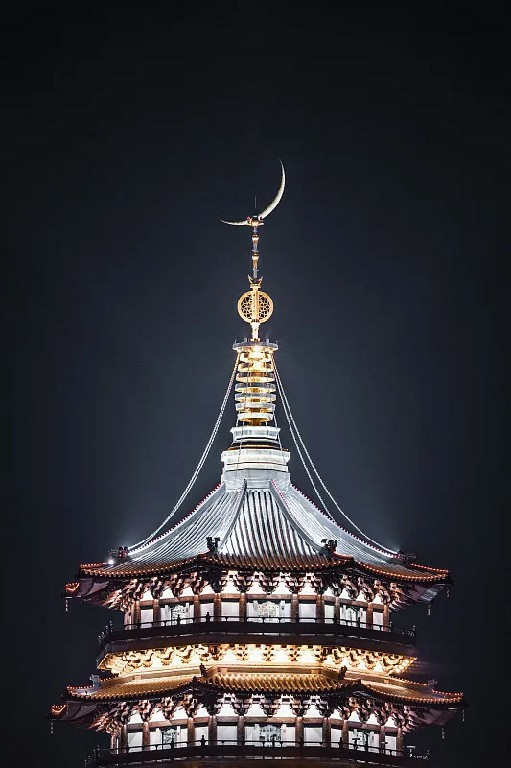Leifeng: (44, 195, 473, 765)
